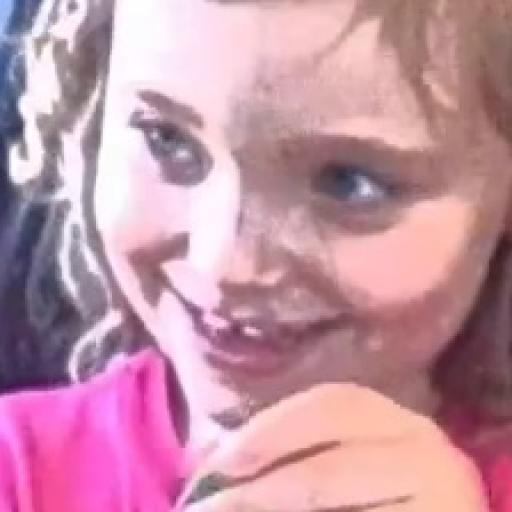Autism: (96, 0, 512, 482)
